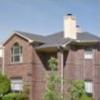chimneys: (63, 13, 76, 39), (74, 25, 82, 33)
